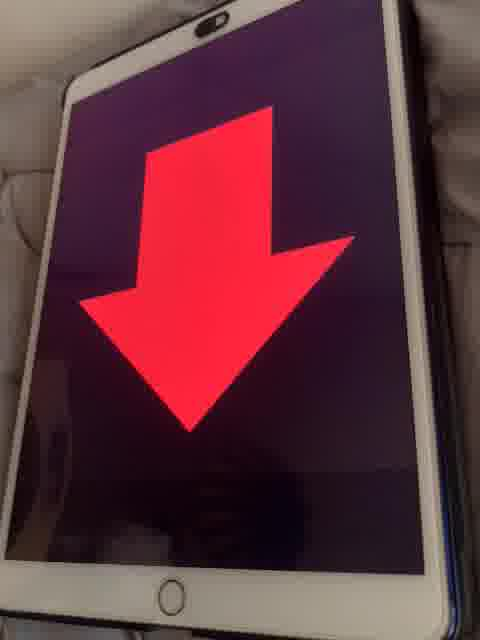down: (76, 101, 358, 436)
